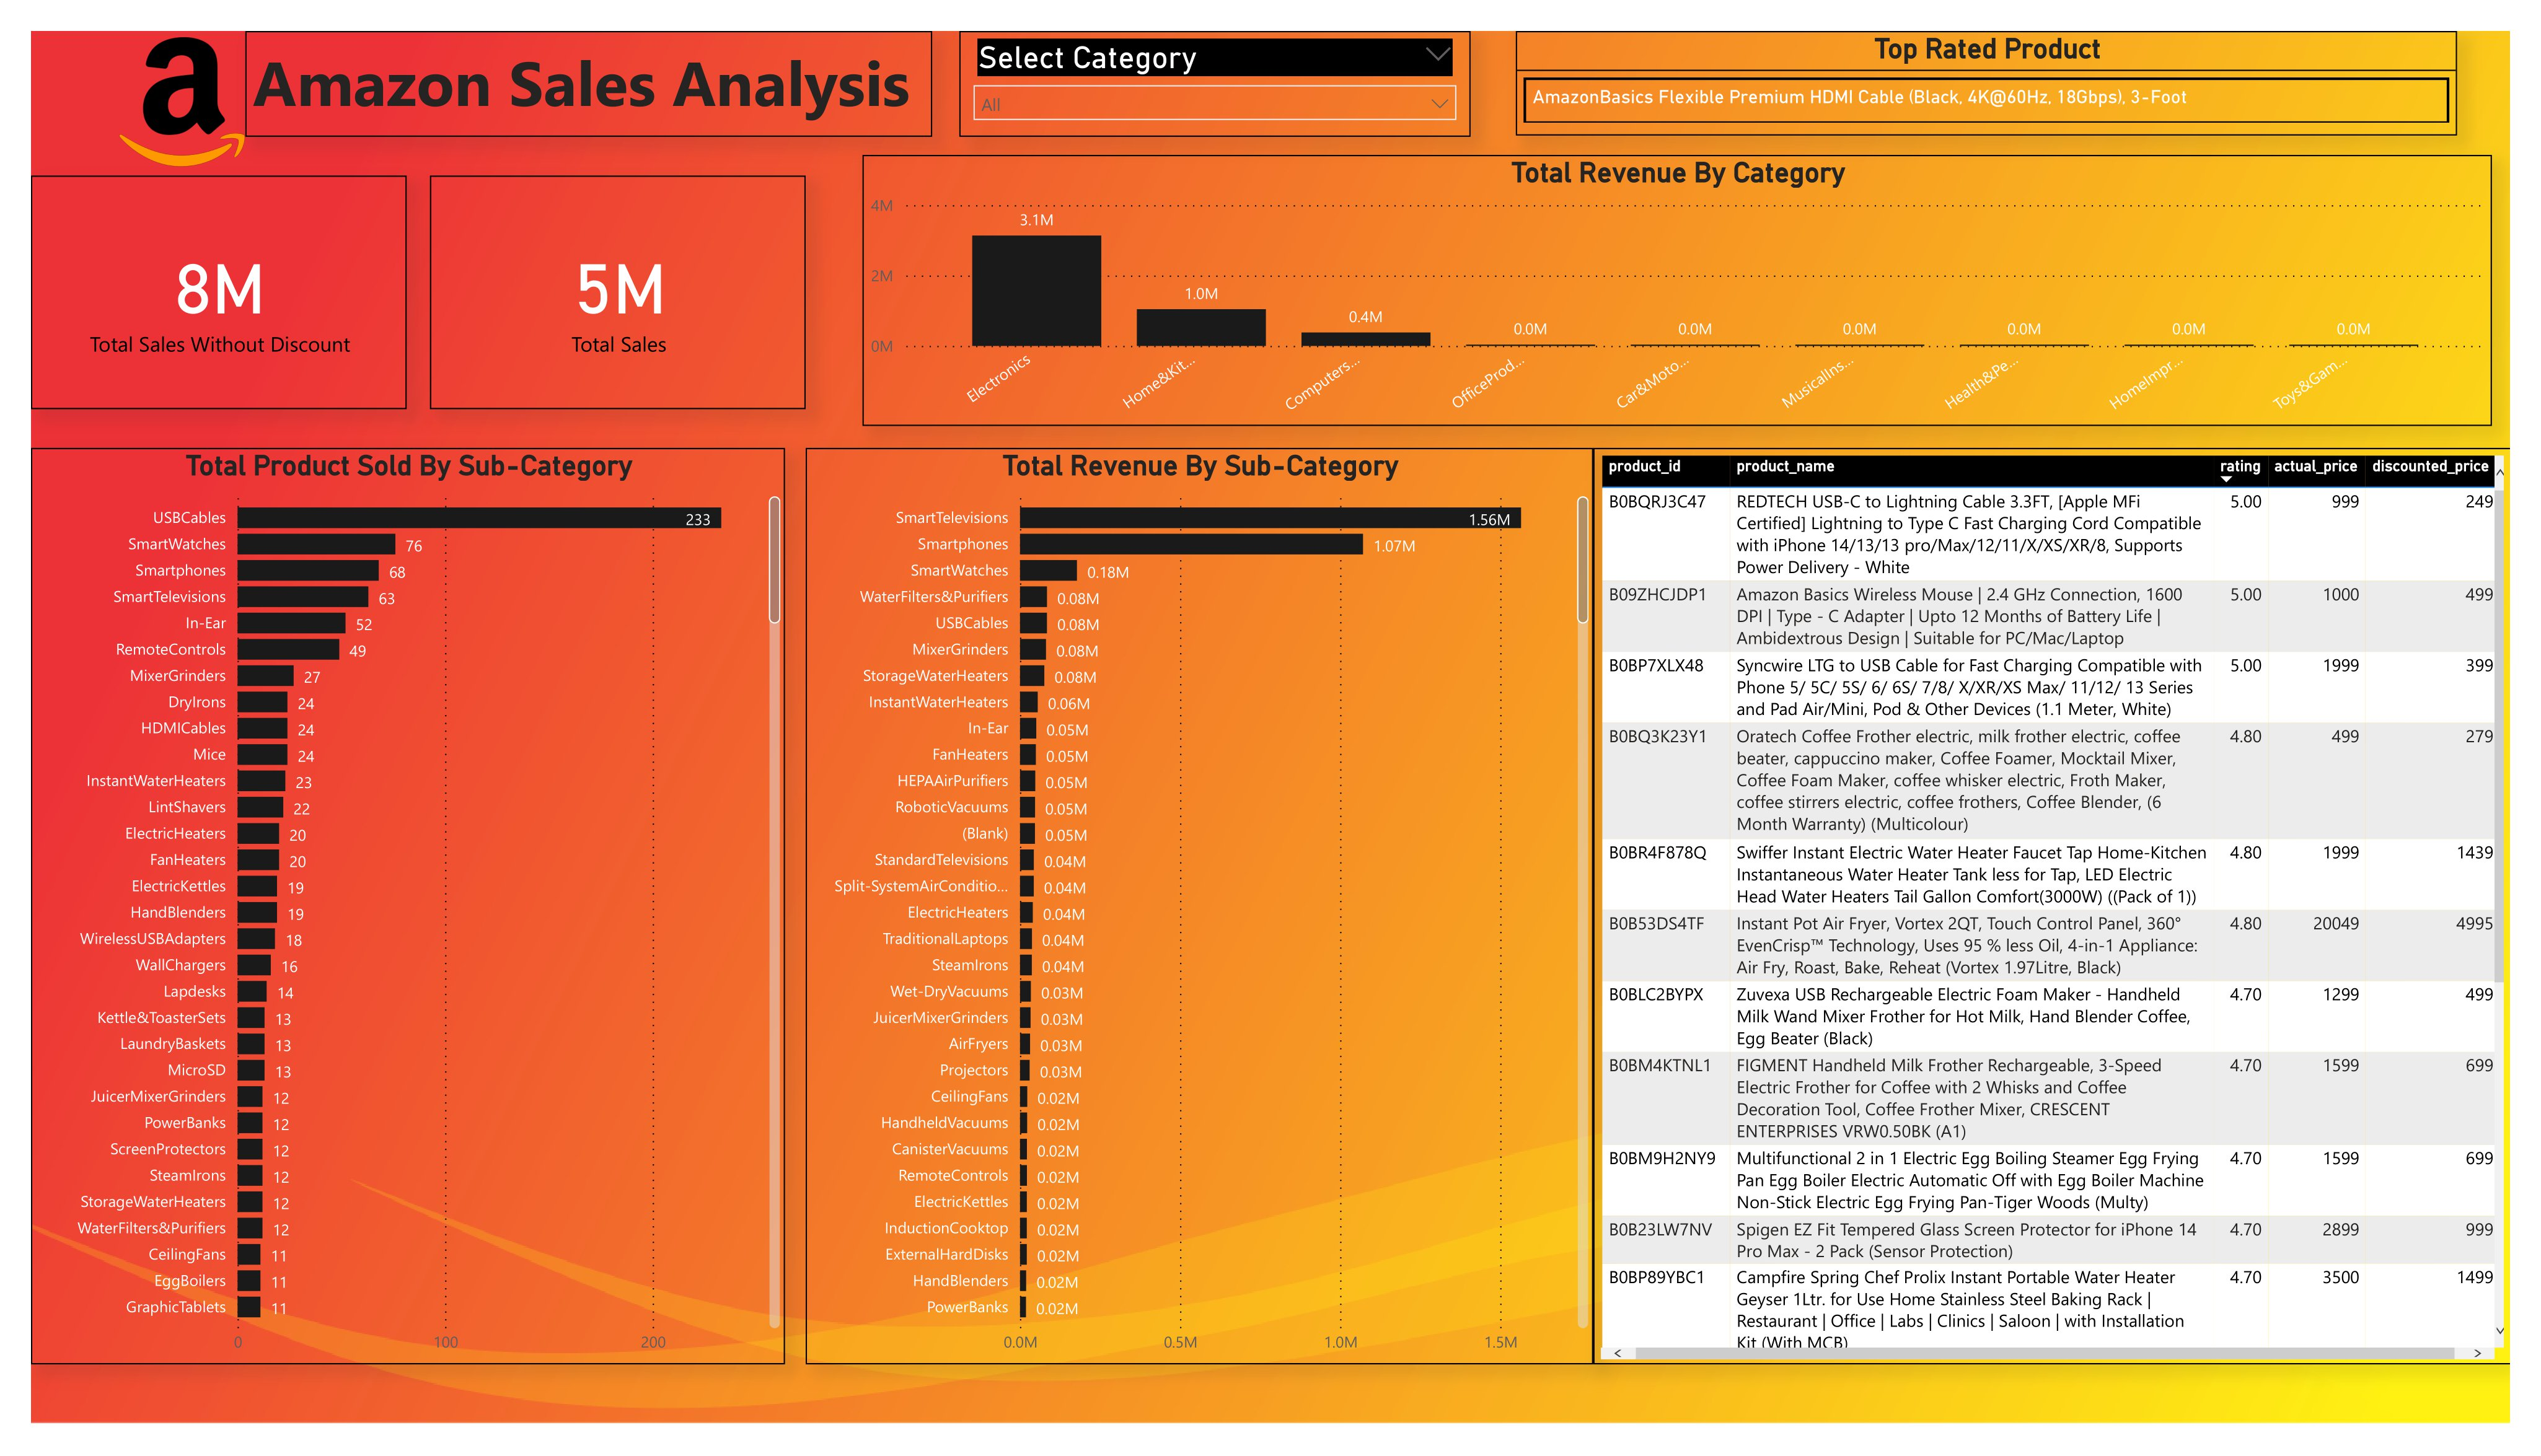

The dashboard page shown, as its layout file describes it:
{"tool":"powerbi","page":{"name":"Page 1","canvas":[1920,1080],"ordinal":0},"visuals":[{"type":"textbox","box":[165.7,0,532,82],"z":0},{"type":"image","box":[0,0,239,111.6],"z":1000},{"type":"clusteredBarChart","title":"Total Product Sold By Sub-Category","fields":{"Y":["amazon.Total Product Amount"],"Category":["amazon.sub-category"]},"box":[0,322.7,584.3,709.9],"z":2000},{"type":"clusteredBarChart","title":"Total Revenue By Sub-Category","fields":{"Y":["amazon.Total Sales"],"Category":["amazon.sub-category"]},"box":[600,322.7,610.5,709.9],"z":3000},{"type":"slicer","fields":{"Values":["amazon.category"]},"box":[743,1.7,395.9,82],"z":4000},{"type":"card","fields":{"Values":["amazon.Total Sales Actual"]},"box":[0,111.6,291.3,181.4],"z":5000},{"type":"card","fields":{"Values":["amazon.Total Sales"]},"box":[308.7,111.6,291.3,181.4],"z":6000},{"type":"multiRowCard","title":"Top Rated Product","fields":{"Values":["amazon.product_name"]},"box":[1175.6,1.7,704.7,90.7],"z":7000},{"type":"donutChart","fields":{"Category":["amazon.category"],"Y":["amazon.Total Sales"]},"box":[1247.1,111.6,673.3,368],"z":8000},{"type":"tableEx","fields":{"Values":["amazon.product_name","amazon.rating","amazon.actual_price","amazon.discounted_price"]},"box":[1231.4,493.6,689,563.4],"z":8001},{"type":"multiRowCard","title":"Top Profited Products","fields":{"Values":["amazon.product_name"]},"box":[621.6,111.1,553.7,185.2],"z":8002}]}

Visuals, with their boxes on the page's 1920x1080 design canvas (x1, y1, x2, y2). These are canvas units, not pixel positions in the 2541x1456 screenshot, which may show the page scaled, cropped or inside an application window:
textbox: detection(166, 0, 698, 82)
image: detection(0, 0, 239, 112)
"Total Product Sold By Sub-Category" clusteredBarChart: detection(0, 323, 584, 1033)
"Total Revenue By Sub-Category" clusteredBarChart: detection(600, 323, 1210, 1033)
slicer - amazon.category: detection(743, 2, 1139, 84)
card - amazon.Total Sales Actual: detection(0, 112, 291, 293)
card - amazon.Total Sales: detection(309, 112, 600, 293)
"Top Rated Product" multiRowCard: detection(1176, 2, 1880, 92)
donutChart - amazon.category x amazon.Total Sales: detection(1247, 112, 1920, 480)
tableEx - amazon.product_name x amazon.rating: detection(1231, 494, 1920, 1057)
"Top Profited Products" multiRowCard: detection(622, 111, 1175, 296)
